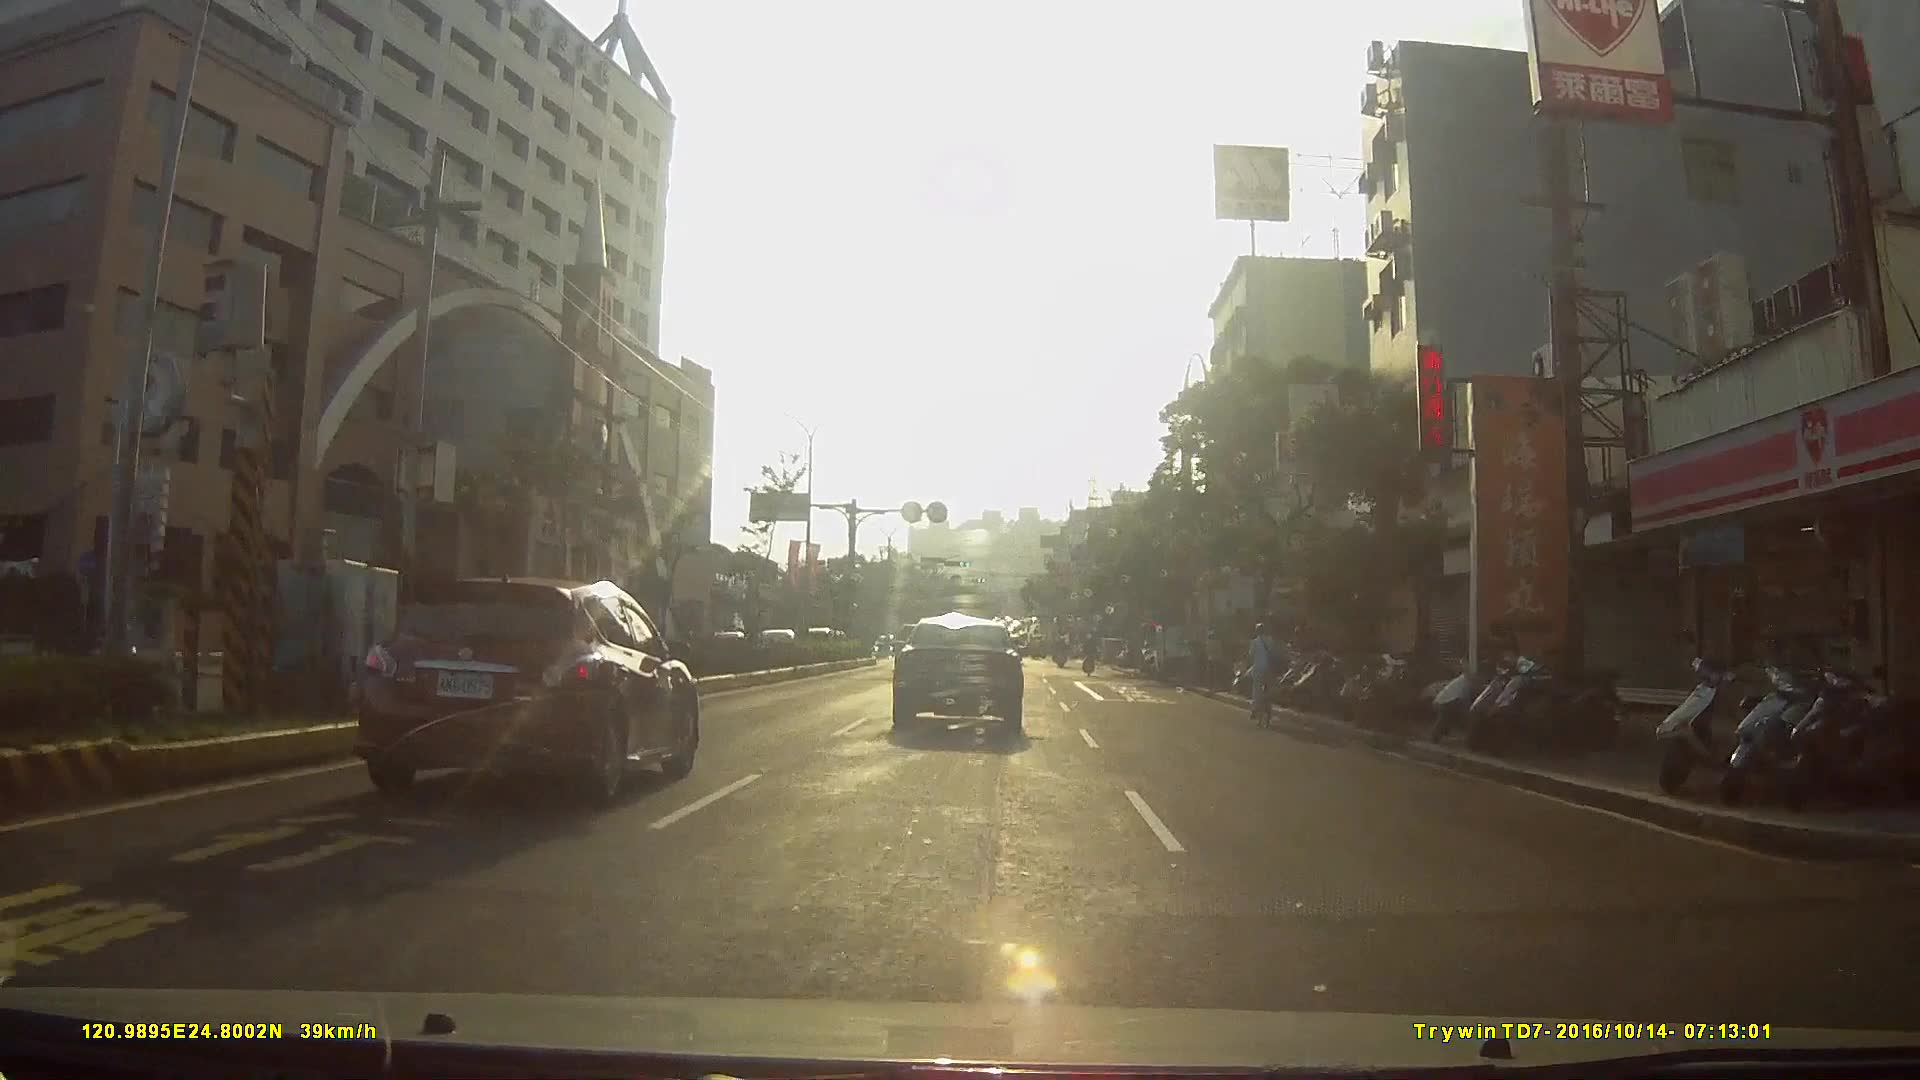rider: (82, 604, 151, 696), (1245, 621, 1287, 728)
vehicle: (353, 574, 712, 810), (886, 614, 1039, 748), (1150, 620, 1216, 684), (763, 607, 822, 662)
